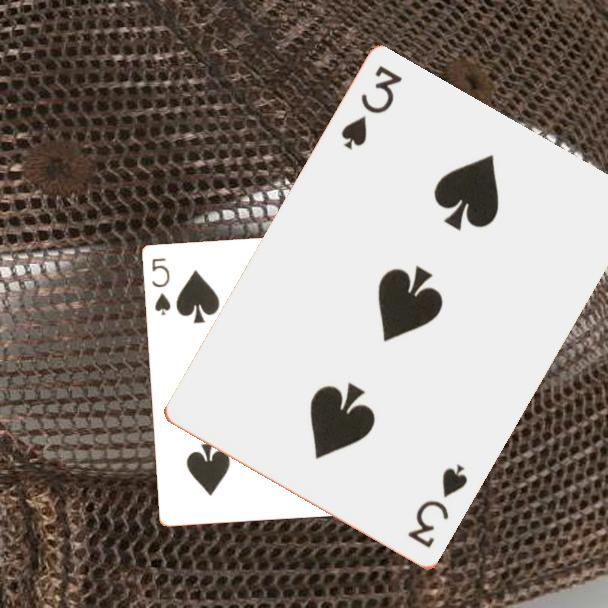s03: (337, 62, 406, 153), (404, 460, 471, 552)
s05: (148, 254, 173, 318)
